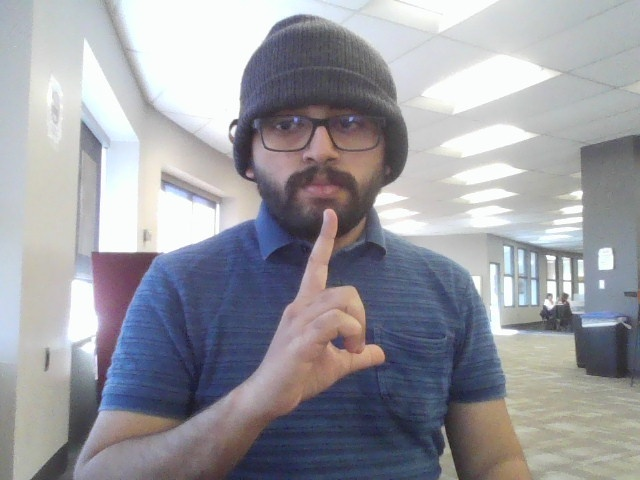one: (260, 203, 423, 421)
